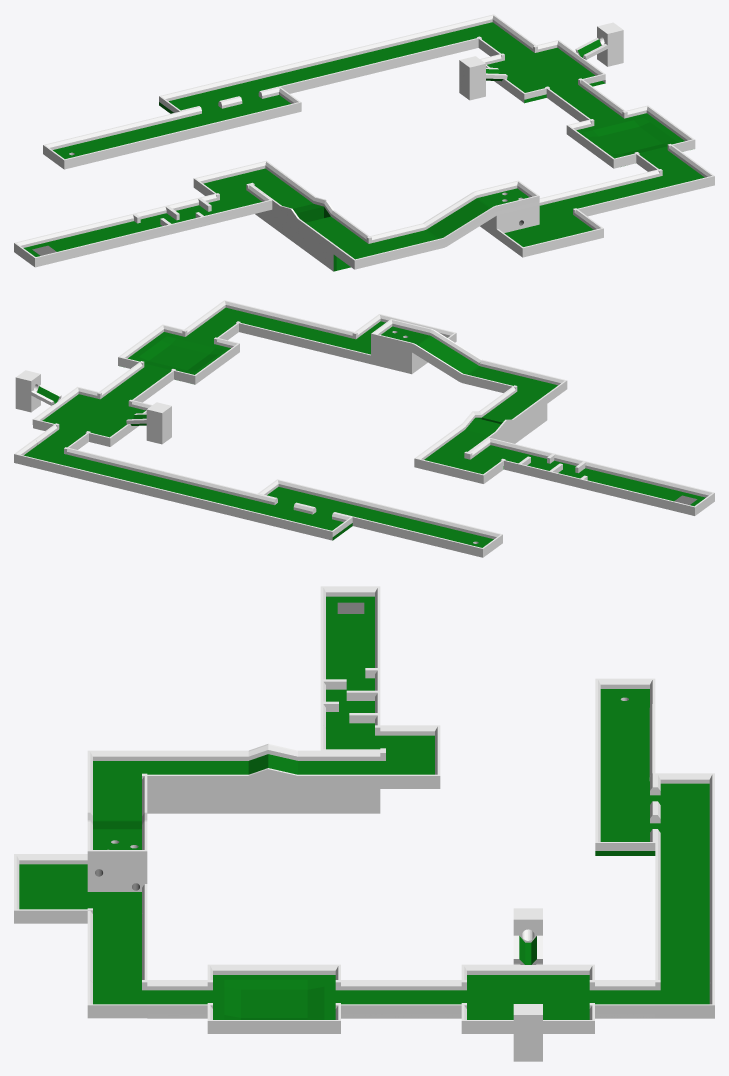
Rendered from Level15Model.obj.
3 views of the same model, one above another, from view 1: azimuth 30°, elevation 25°; view 2: azimuth 150°, elevation 25°; view 3: azimuth 270°, elevation 25° (orthographic). The views are drawn at different scales.
Visible parts, largest first — view 1: Level15Model:pCube315; view 2: Level15Model:pCube315; view 3: Level15Model:pCube315.
Boxes of the visible parts, <box> form: Level15Model:pCube315: <box>14,14,714,271</box>; Level15Model:pCube315: <box>14,300,714,557</box>; Level15Model:pCube315: <box>14,586,714,1061</box>.
Bounding box in the file's own units: 40.35 × 2.7 × 26.28.
Materials: 3 (2 with a texture image).
